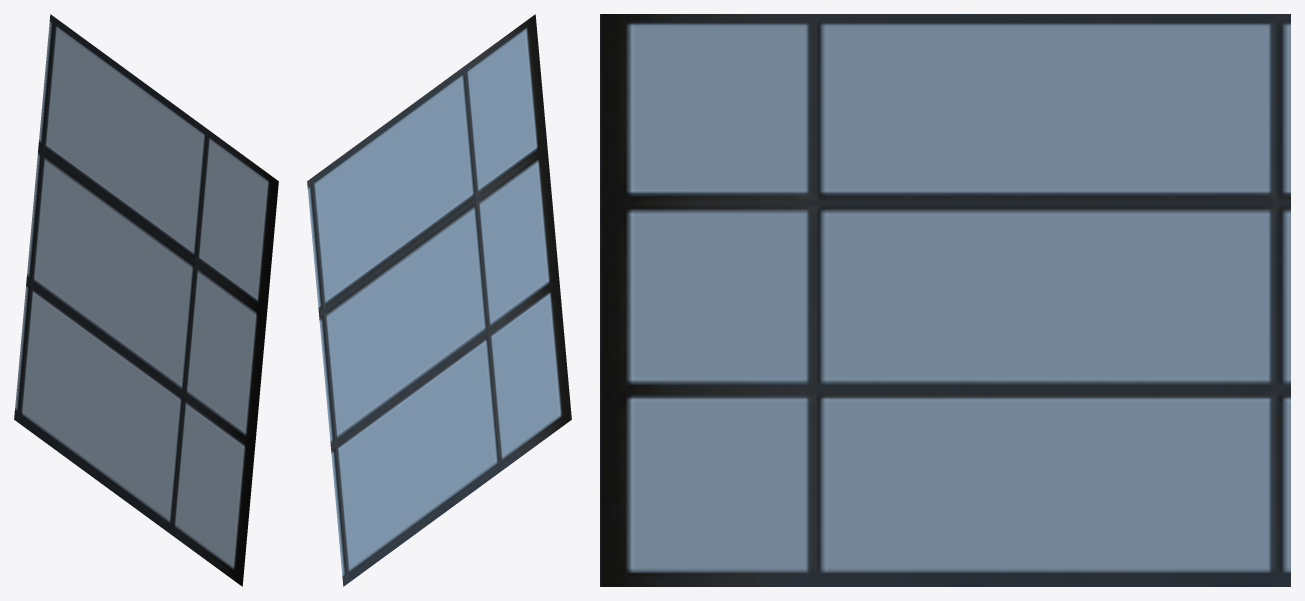
File: data13.glb
3 renders of one model, left to right at view 1: azimuth 30°, elevation 25°; view 2: azimuth 150°, elevation 25°; view 3: azimuth 270°, elevation 25°, orthographic. The views are drawn at different scales.
Parts seen in each view (by area): view 1: data13; view 2: data13; view 3: data13.
Part boxes in pixels (x1,y1,x2,y2): data13: [14, 14, 278, 586]; data13: [307, 14, 571, 586]; data13: [600, 14, 1290, 586].
Bounding box in the file's own units: 0.1282 × 1.34 × 1.4.
1 material, 1 textured.
